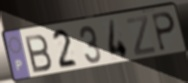2: (52, 27, 80, 71)
3: (79, 24, 102, 65)
4: (108, 18, 129, 62)
B: (23, 32, 54, 75)
P: (150, 11, 177, 54)
Z: (125, 14, 157, 57)
